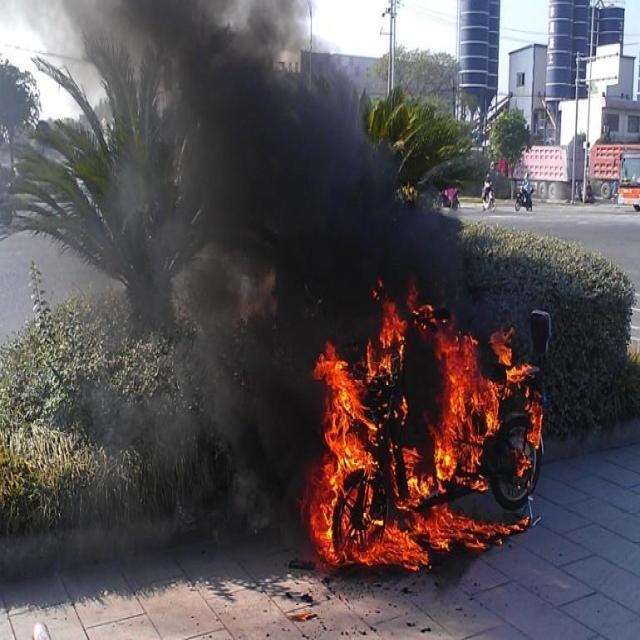Fire: (301, 342, 374, 565), (428, 313, 498, 492), (374, 496, 530, 570), (366, 278, 416, 374), (492, 326, 533, 386), (525, 389, 543, 452)
